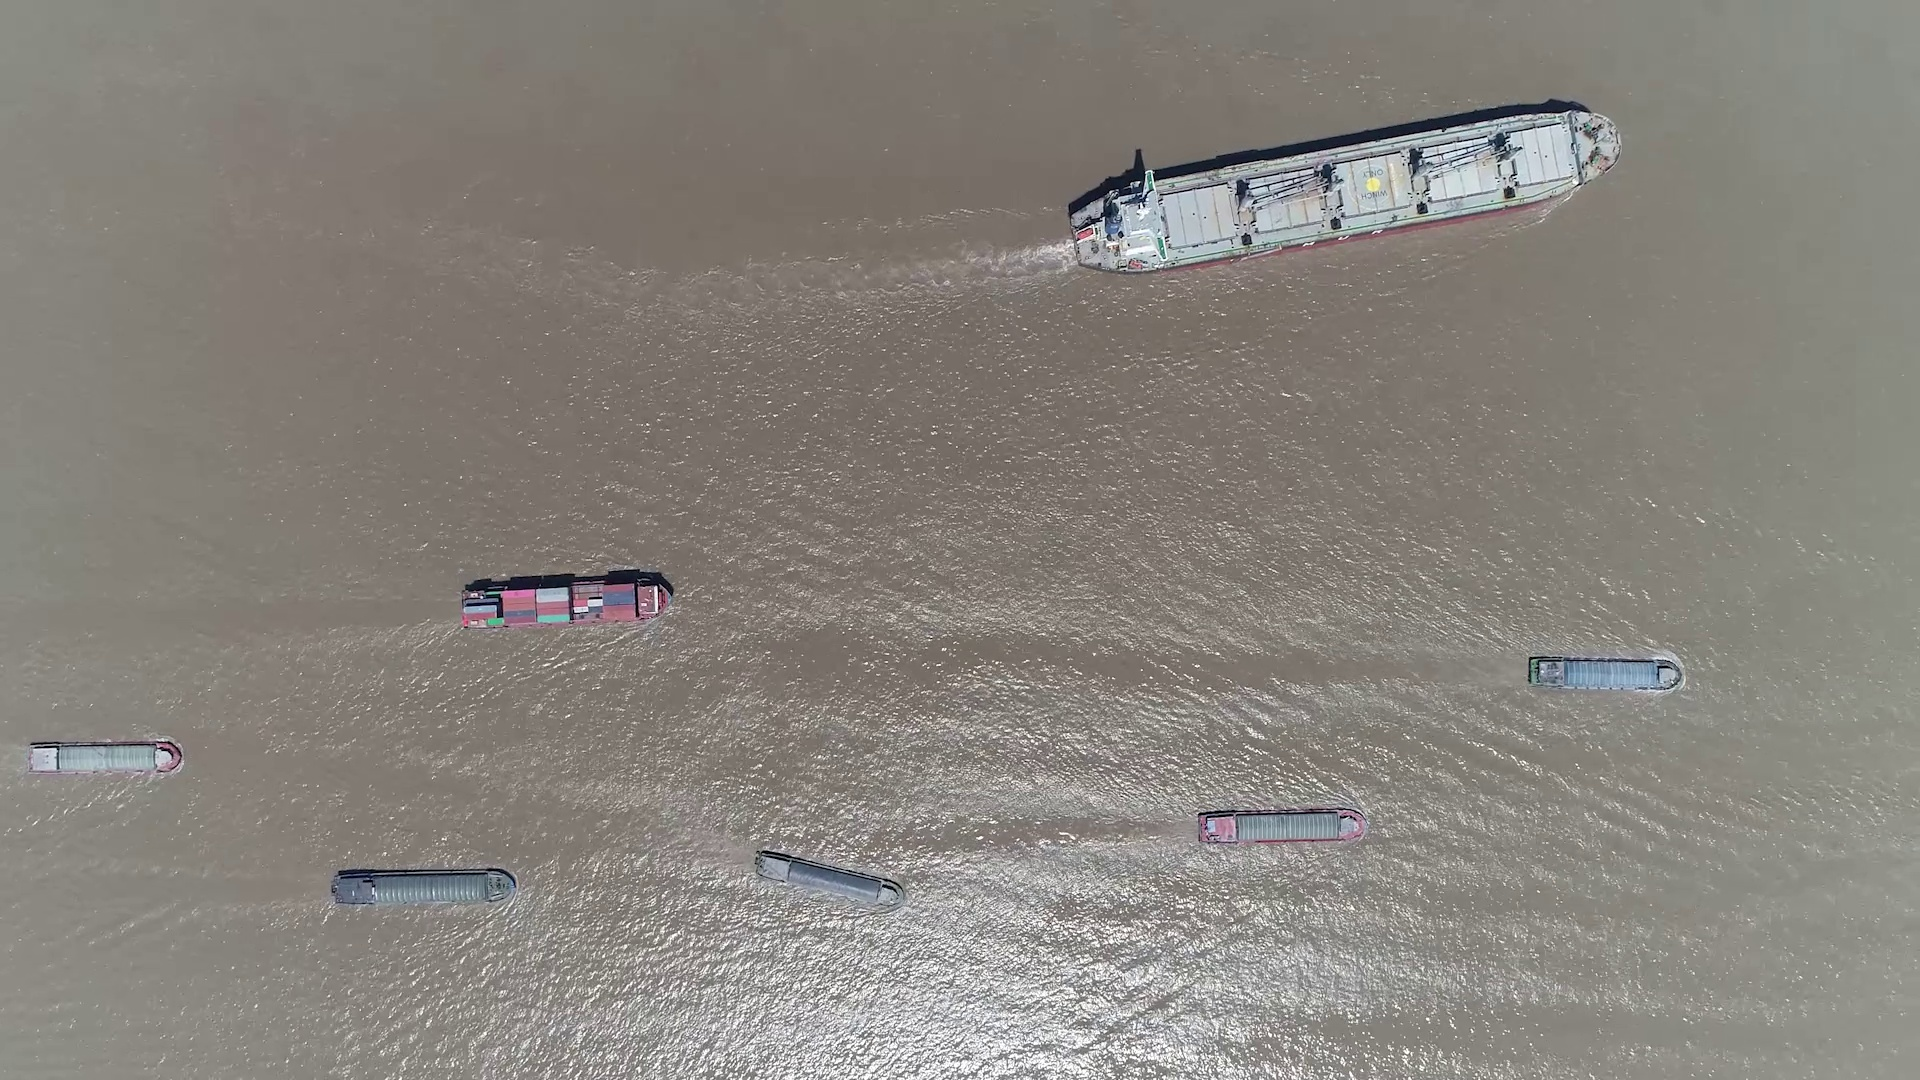ship: (1069, 113, 1619, 268), (459, 576, 673, 626), (757, 851, 905, 909), (334, 868, 516, 905), (1197, 808, 1365, 845), (1528, 655, 1683, 691), (26, 742, 182, 774)
